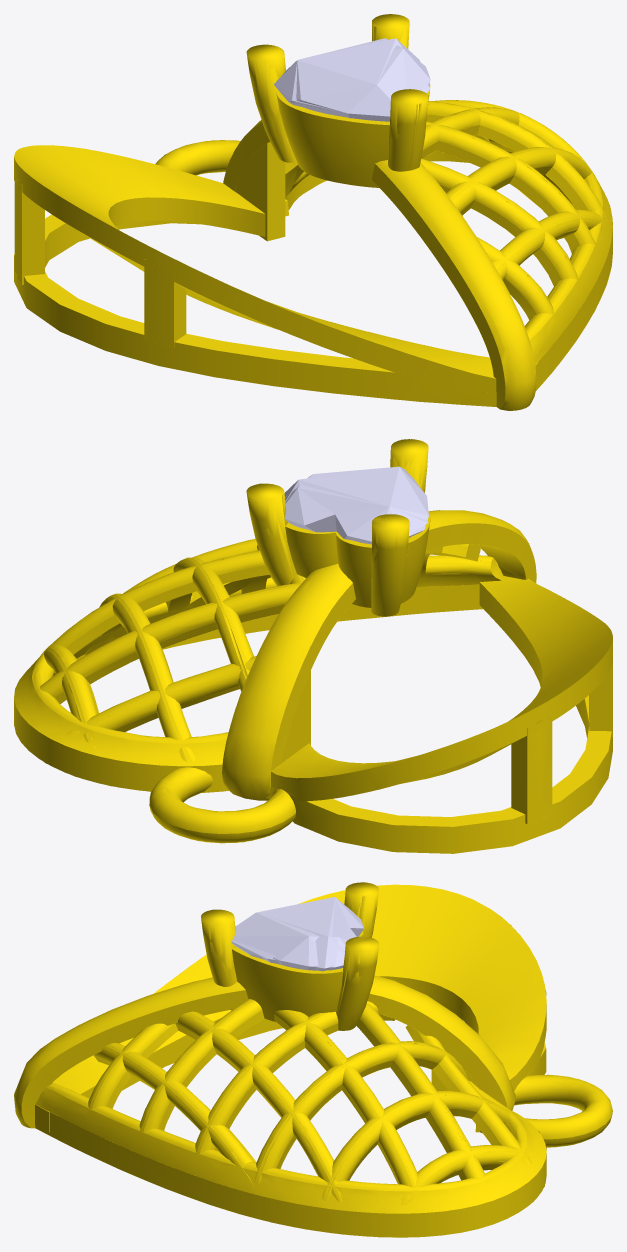
File: DPN-D000675374.glb
The picture shows the model from 3 angles, top to bottom: view 1: azimuth 30°, elevation 25°; view 2: azimuth 150°, elevation 25°; view 3: azimuth 270°, elevation 25°; orthographic projection. The views are drawn at different scales.
Parts seen in each view (by area): view 1: highPolyMesh, lowPolyMesh; view 2: highPolyMesh, lowPolyMesh; view 3: highPolyMesh, lowPolyMesh.
Boxes of the visible parts, <box> form: highPolyMesh: <box>14,14,612,410</box>; lowPolyMesh: <box>14,14,612,410</box>; highPolyMesh: <box>14,439,612,846</box>; lowPolyMesh: <box>14,439,612,853</box>; highPolyMesh: <box>14,882,612,1237</box>; lowPolyMesh: <box>14,882,612,1237</box>.
Bounding box in the file's own units: 0.0146 × 0.00611 × 0.0159.
